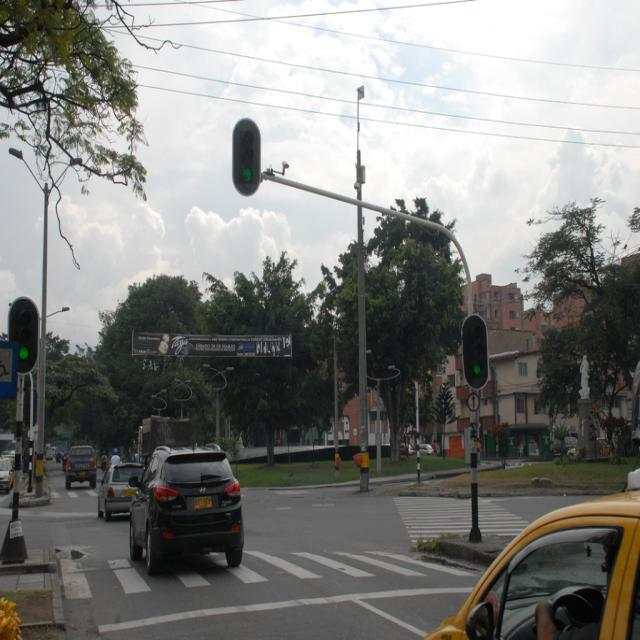traffic light: (11, 297, 41, 366), (463, 316, 490, 387), (233, 120, 259, 192)
